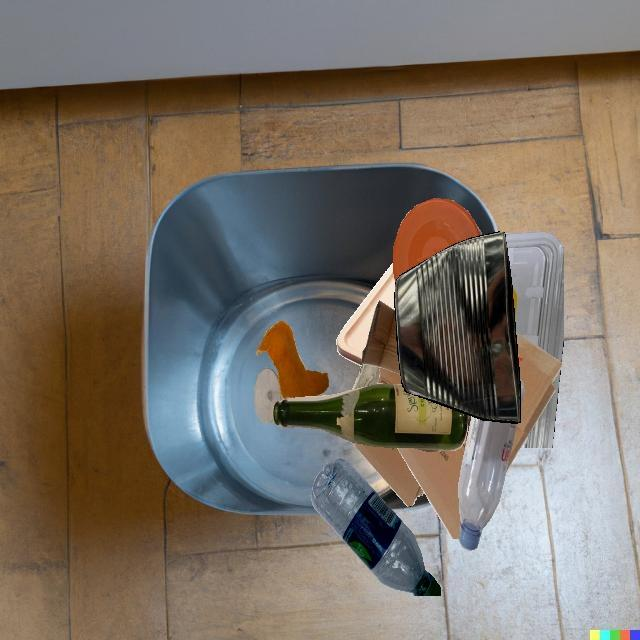biowaste: (255, 321, 329, 398)
cardboard: (397, 415, 472, 539), (506, 332, 562, 473), (354, 443, 424, 506), (362, 300, 400, 375)
combustible waste: (336, 263, 395, 366)
glass: (273, 384, 468, 451), (254, 367, 290, 424), (352, 363, 380, 390)
metal: (394, 231, 521, 424)
plastic: (311, 458, 441, 596), (458, 416, 517, 551), (505, 232, 564, 363), (393, 198, 482, 284)
